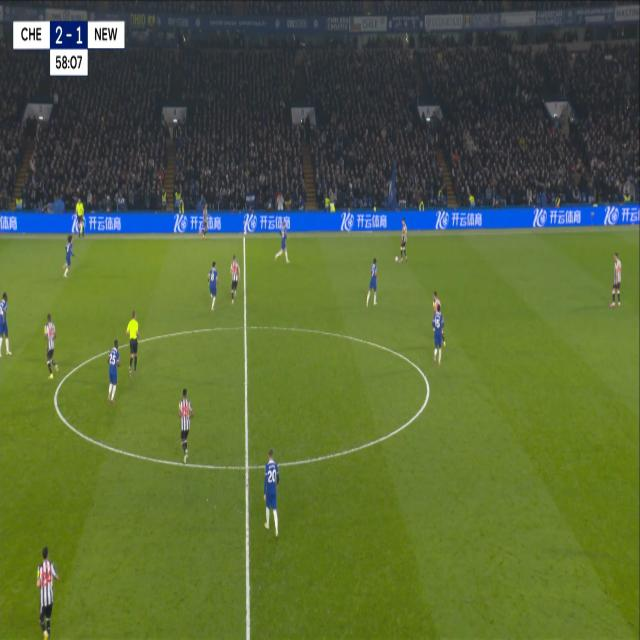Ball: (394, 252, 399, 266)
Chelsea: (260, 443, 283, 541), (429, 297, 448, 368), (104, 335, 123, 406), (0, 289, 15, 358), (273, 220, 292, 267), (206, 259, 220, 317), (365, 256, 380, 310), (60, 232, 76, 282)
New castle: (34, 542, 60, 638), (175, 384, 196, 468), (43, 310, 58, 385), (608, 251, 624, 311), (228, 249, 241, 306), (399, 218, 408, 266), (200, 201, 209, 242)
Refree: (124, 306, 142, 380)
